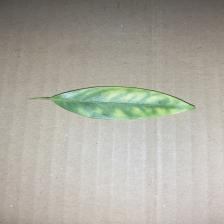greening: (29, 84, 198, 122)
